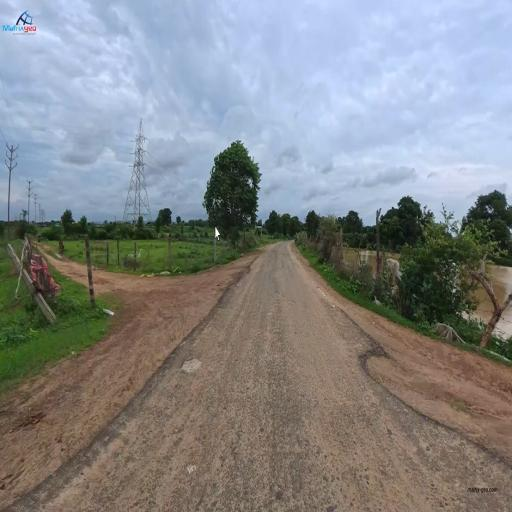edge_damage: (355, 326, 398, 439), (413, 394, 443, 453)
ravelling: (153, 397, 341, 481)
